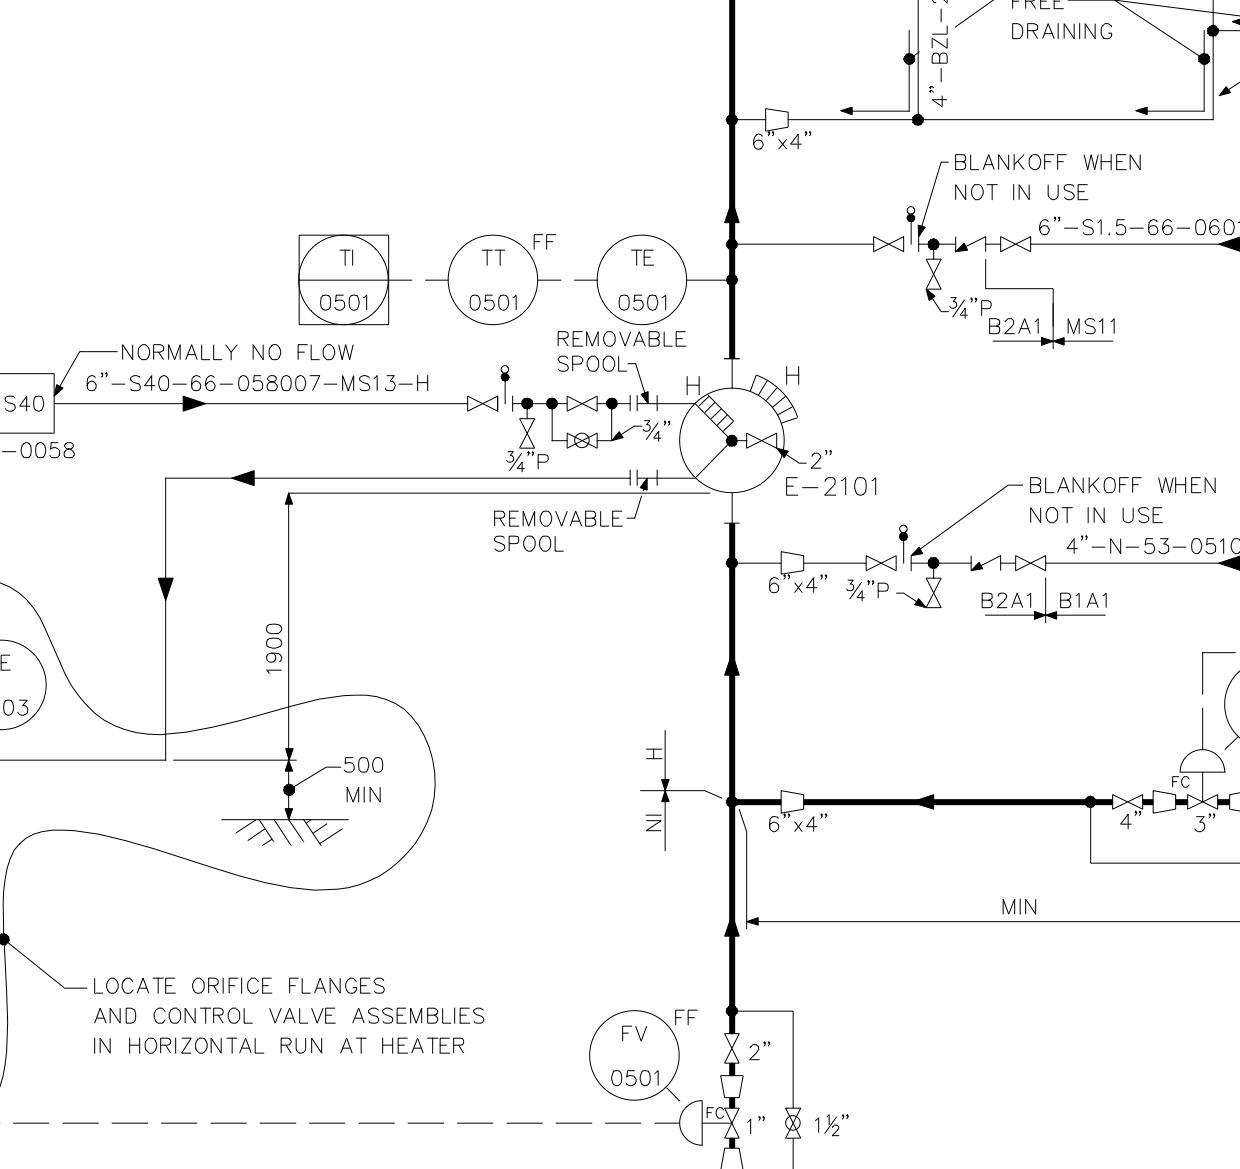Ball Valve: (565, 428, 600, 452)
Line Number: (82, 368, 436, 396)
